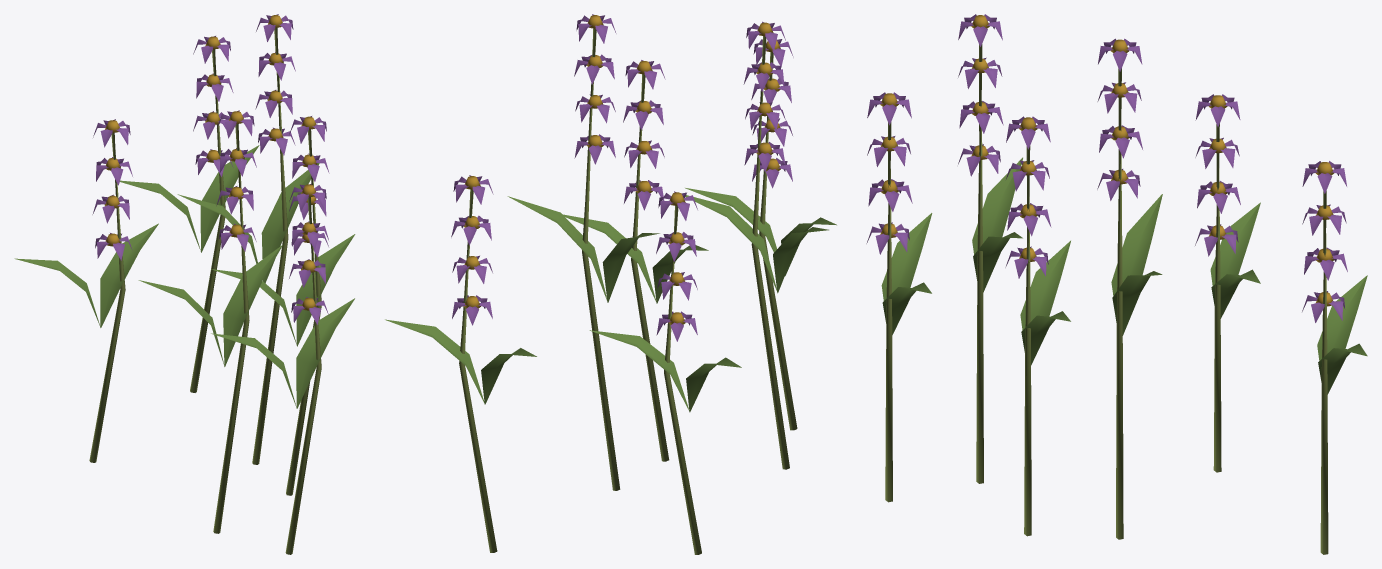
Rendered from flowers_1_lod1.glb.
3 views of the same model, side by side, from view 1: azimuth 30°, elevation 25°; view 2: azimuth 150°, elevation 25°; view 3: azimuth 270°, elevation 25° (orthographic). The views are drawn at different scales.
Visible parts, largest first — view 1: flowers_1_lod1; view 2: flowers_1_lod1; view 3: flowers_1_lod1.
Part boxes in pixels (bbox=[...]): flowers_1_lod1: bbox=[14, 14, 355, 554]; flowers_1_lod1: bbox=[385, 14, 836, 554]; flowers_1_lod1: bbox=[866, 14, 1367, 554].
Bounding box in the file's own units: 0.3633 × 0.5267 × 0.4715.
